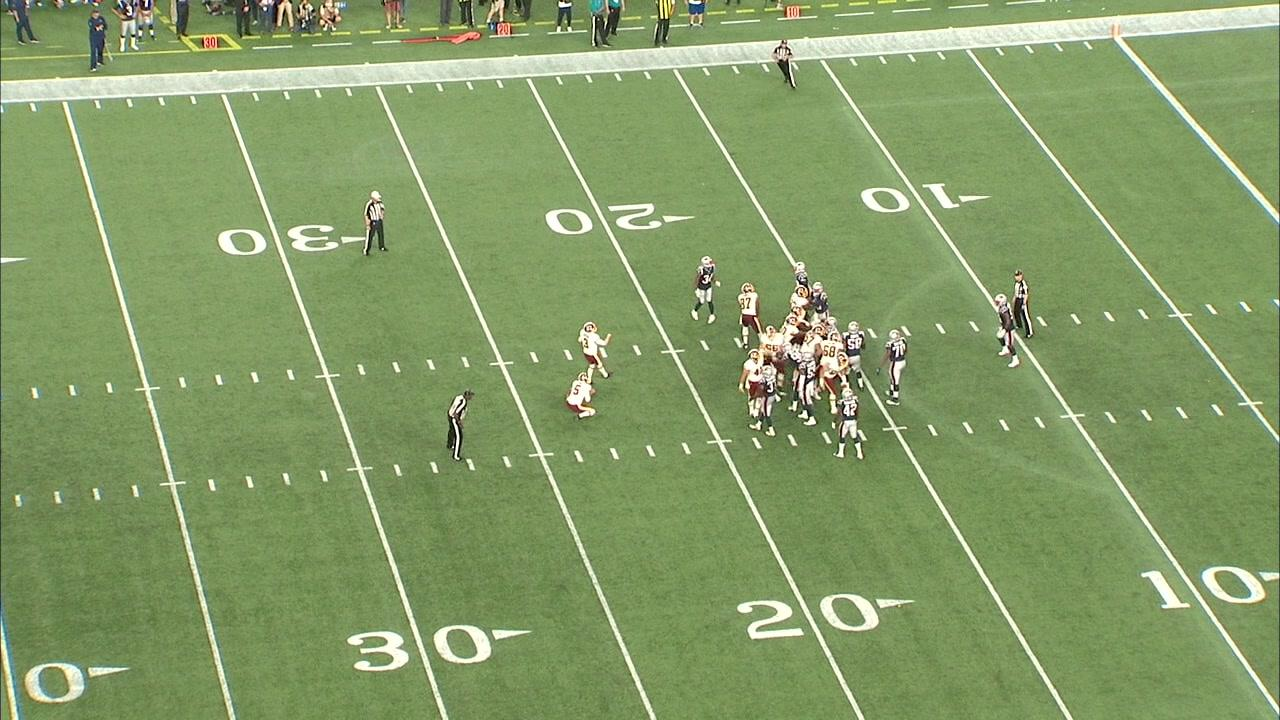five_hash: (158, 479, 191, 489), (313, 371, 343, 381), (134, 384, 162, 394), (705, 437, 735, 446), (881, 424, 910, 433), (344, 464, 375, 472), (526, 451, 556, 459), (487, 359, 516, 367), (659, 347, 687, 355), (1166, 311, 1193, 319), (1058, 413, 1087, 420), (1236, 401, 1266, 407)
hash: (781, 430, 802, 450), (202, 474, 221, 495), (86, 484, 105, 504), (210, 370, 229, 389), (965, 317, 984, 336), (1208, 401, 1227, 420), (605, 443, 624, 462), (9, 491, 28, 510), (247, 368, 265, 387), (352, 360, 371, 378), (1203, 300, 1222, 318), (1171, 403, 1190, 421), (1137, 406, 1155, 425), (425, 457, 443, 476), (315, 466, 333, 485), (240, 472, 259, 490), (48, 488, 66, 507), (26, 384, 44, 402), (422, 354, 440, 372), (958, 419, 976, 437), (570, 447, 588, 465), (499, 453, 517, 471), (282, 365, 299, 384), (995, 417, 1014, 434), (933, 320, 950, 338), (1067, 311, 1085, 328), (1032, 414, 1050, 431), (463, 456, 480, 474), (390, 462, 407, 480), (278, 469, 295, 487), (696, 337, 715, 353), (1033, 313, 1052, 329), (1237, 297, 1253, 316), (1101, 409, 1120, 425), (643, 440, 659, 459), (388, 358, 405, 375), (457, 353, 474, 370), (1101, 308, 1118, 325), (1135, 306, 1152, 323), (102, 378, 118, 396), (748, 435, 766, 451), (65, 382, 81, 399), (678, 440, 694, 457), (127, 482, 143, 499), (526, 348, 542, 364), (925, 422, 940, 438), (819, 429, 834, 445), (176, 373, 190, 390), (559, 347, 576, 361), (630, 342, 647, 356), (865, 327, 881, 341), (900, 323, 913, 338)
number: (341, 618, 497, 675), (731, 590, 885, 645), (1137, 563, 1272, 615), (539, 199, 666, 238), (853, 177, 965, 220), (212, 221, 342, 258)
